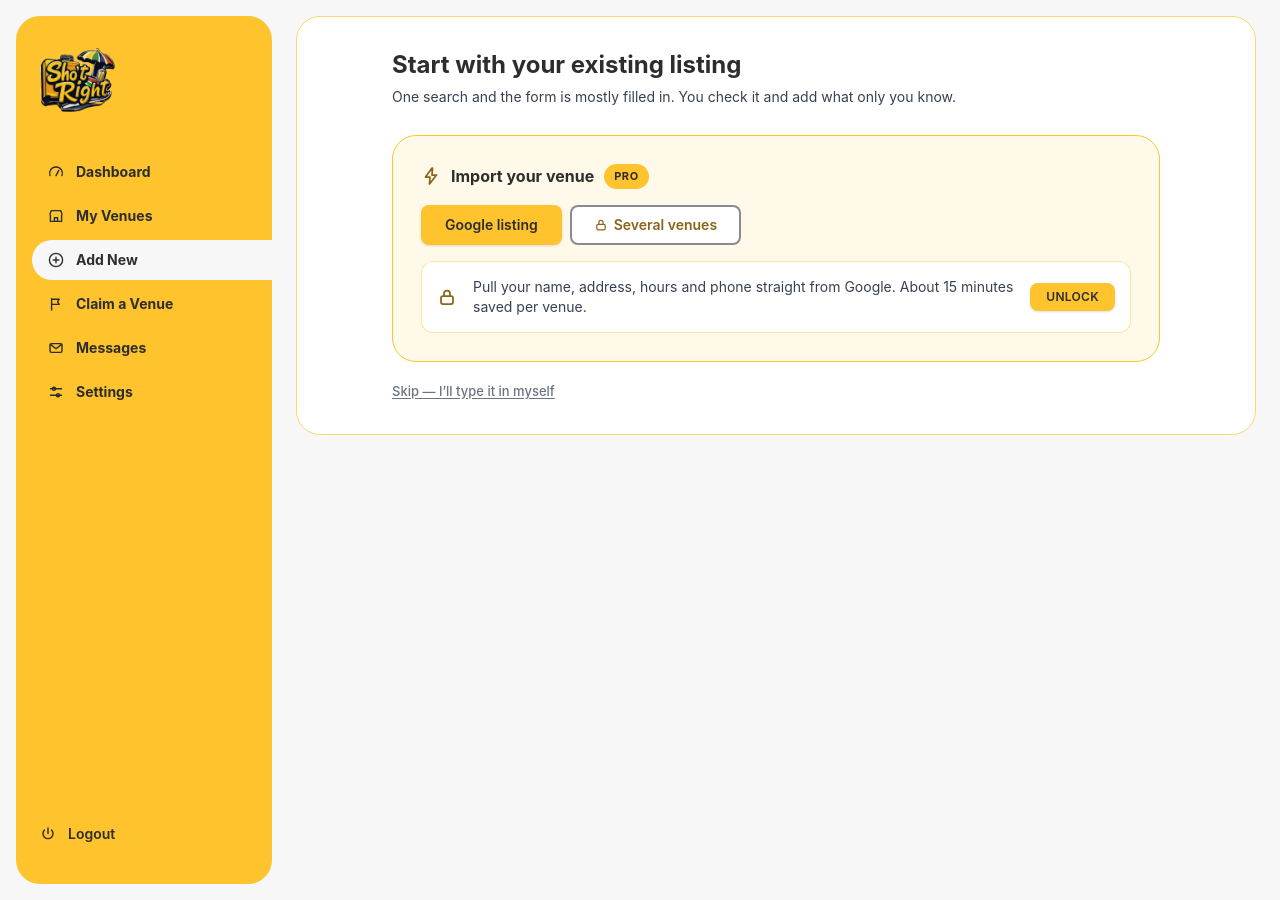
Test: importing is Pro › keeps the lock to one line and sells in the dialog
Check: the text "everything in free, plus" is not shown
Click the button "Unlock" at point(1073, 296), box [1030, 282, 1115, 310]
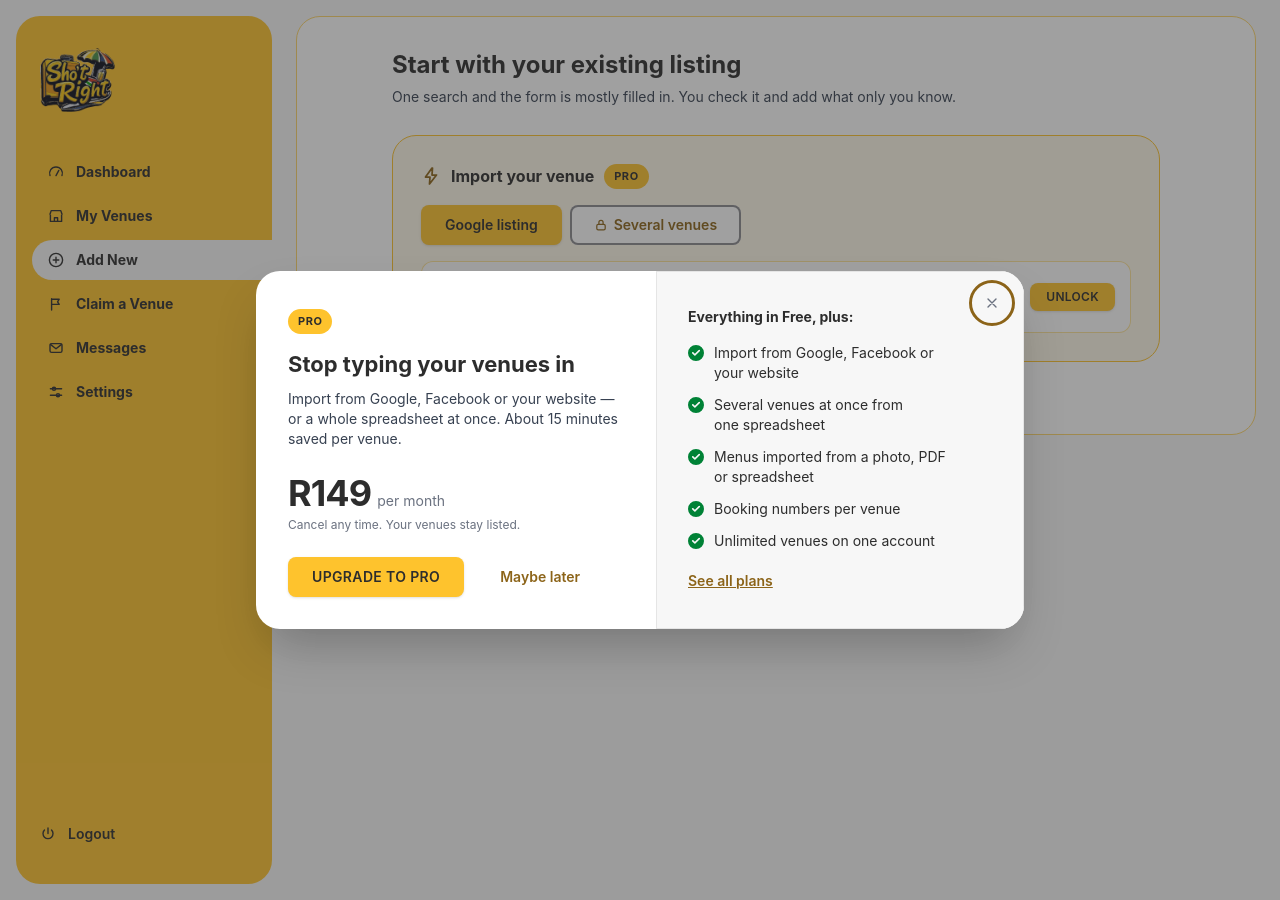
Check: the text "Everything in Free, plus:" is shown, box [688, 308, 853, 325]
